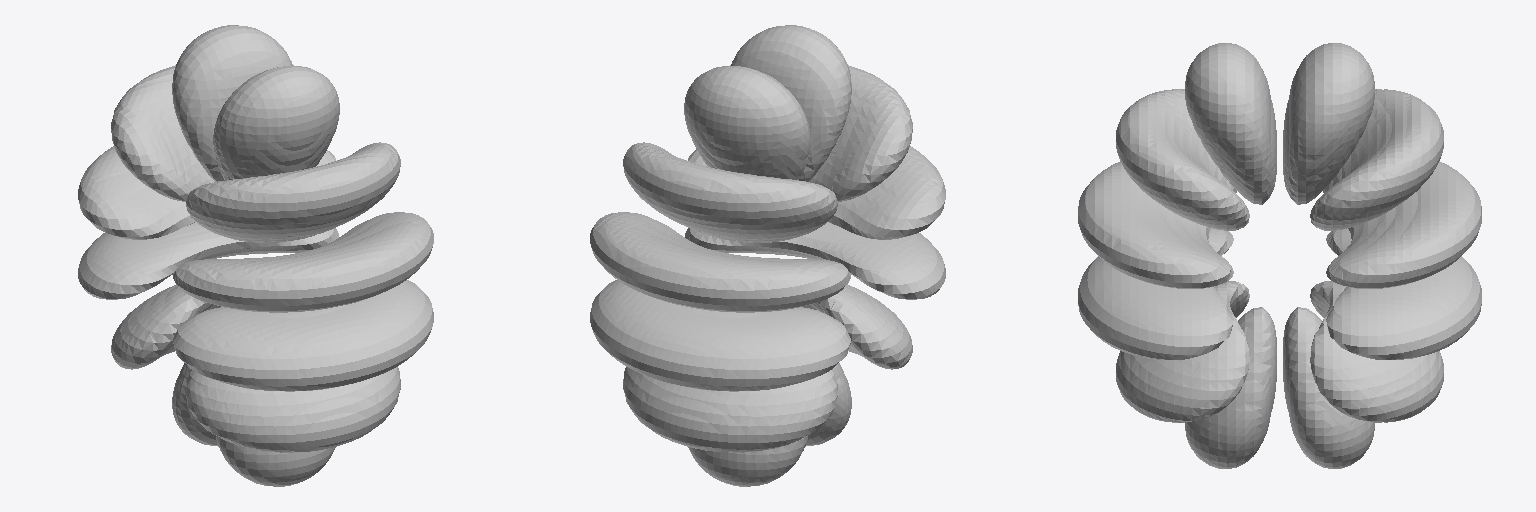
Rendered from orb_n=7_ l=6 _m=-1.obj.
3 views of the same model, side by side, from view 1: azimuth 30°, elevation 25°; view 2: azimuth 150°, elevation 25°; view 3: azimuth 270°, elevation 25° (orthographic).
Parts seen in each view (by area): view 1: orb_n=7__l=6__m=-1; view 2: orb_n=7__l=6__m=-1; view 3: orb_n=7__l=6__m=-1.
Boxes of the visible parts, x1,y1,x2,y2 form: orb_n=7__l=6__m=-1: [78, 25, 433, 486]; orb_n=7__l=6__m=-1: [590, 25, 945, 486]; orb_n=7__l=6__m=-1: [1078, 43, 1481, 468].
Size of the model in its own units: 106 by 172 by 153.